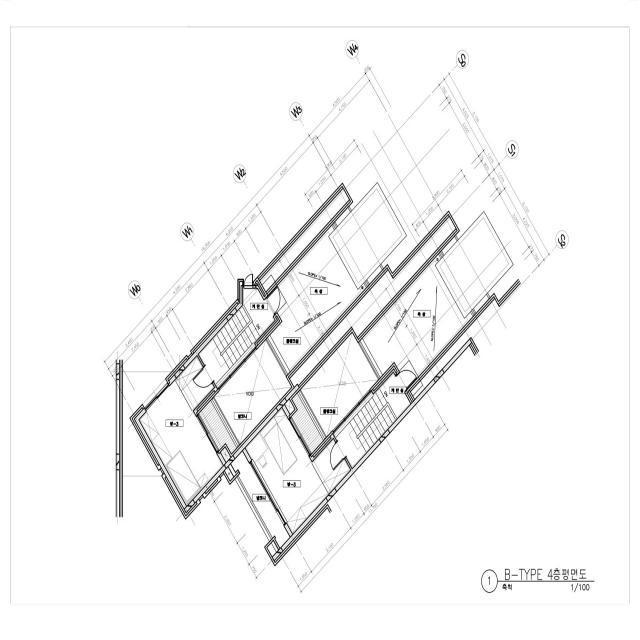space_balconi: (231, 451, 290, 548), (199, 401, 237, 454), (291, 393, 323, 454)
space_bedroom: (245, 408, 351, 534), (139, 356, 223, 506)
space_other: (214, 340, 292, 444), (301, 333, 378, 437), (285, 399, 295, 414), (221, 447, 231, 462)
space_staircase: (199, 289, 275, 385), (336, 373, 411, 468)
